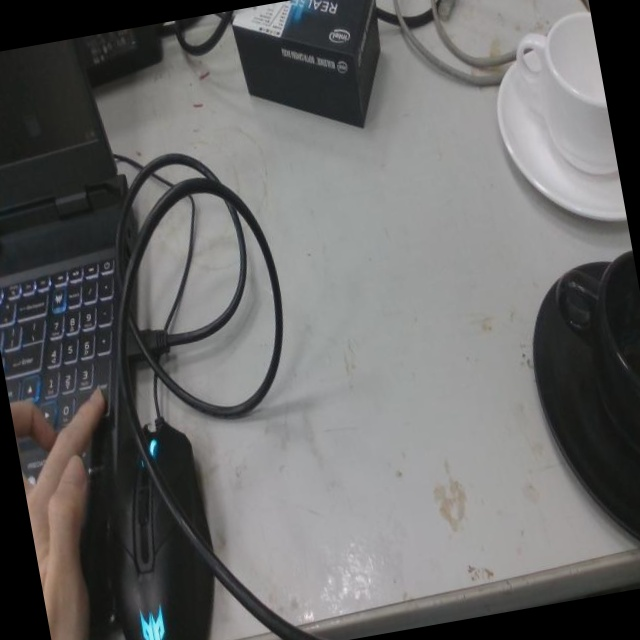black: (541, 253, 640, 577)
white: (497, 14, 610, 238)
